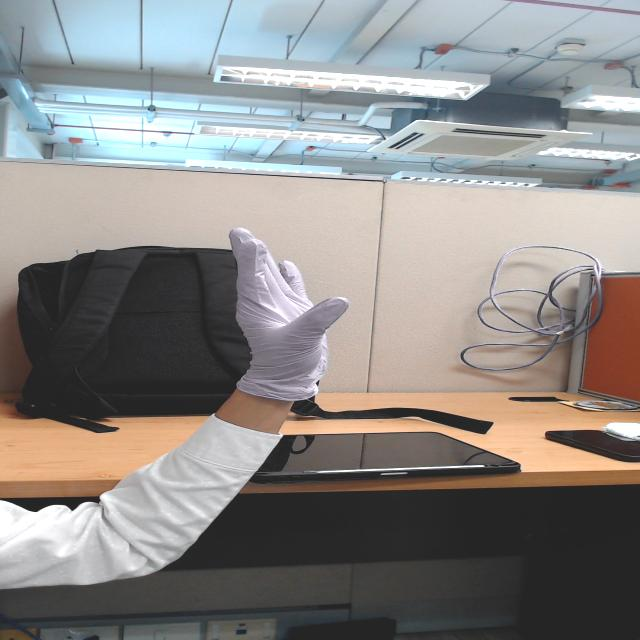glove: (204, 218, 364, 354)
